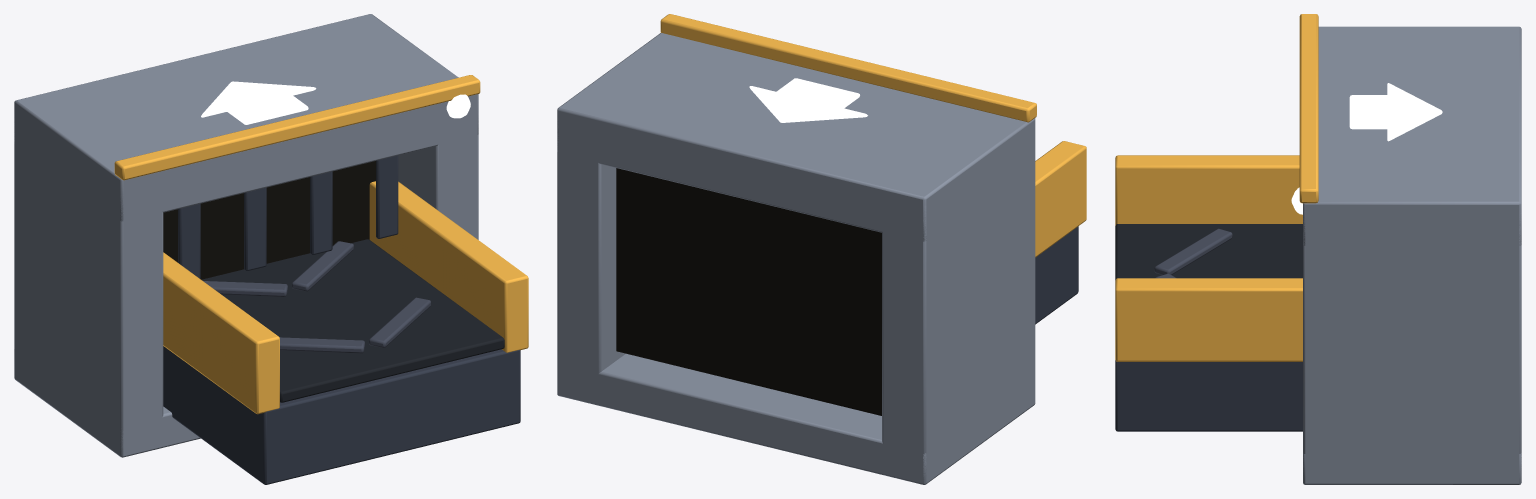
The model's file is anschluss_eingang.fbx.
3 views of the same model, side by side, from view 1: azimuth 30°, elevation 25°; view 2: azimuth 150°, elevation 25°; view 3: azimuth 270°, elevation 25° (orthographic). The views are drawn at different scales.
Visible parts, largest first — view 1: anschluss_eingang_Koerper; view 2: anschluss_eingang_Koerper; view 3: anschluss_eingang_Koerper.
Part boxes in pixels (x1=…): anschluss_eingang_Koerper: x1=14, y1=14, x2=528, y2=484; anschluss_eingang_Koerper: x1=557, y1=14, x2=1086, y2=484; anschluss_eingang_Koerper: x1=1115, y1=14, x2=1521, y2=484.
Size of the model in its own units: 1.34 by 1.04 by 1.3.
